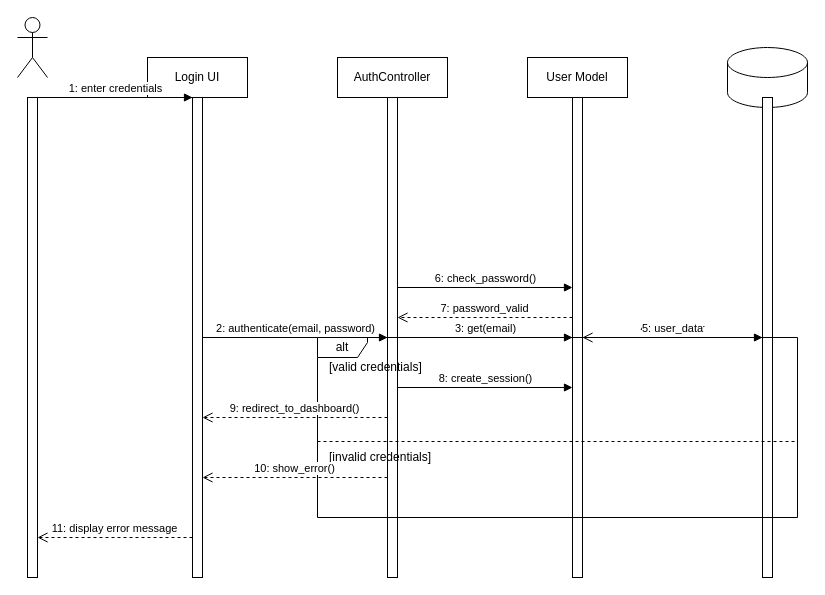
Some shapes in this 825 by 595 pixel diagram are drawn without their labels. Here are the shapes that lost their labels. From the top down, the centre of each, then its label:
At [32,47]: "User".
At [767,77]: "Database".
